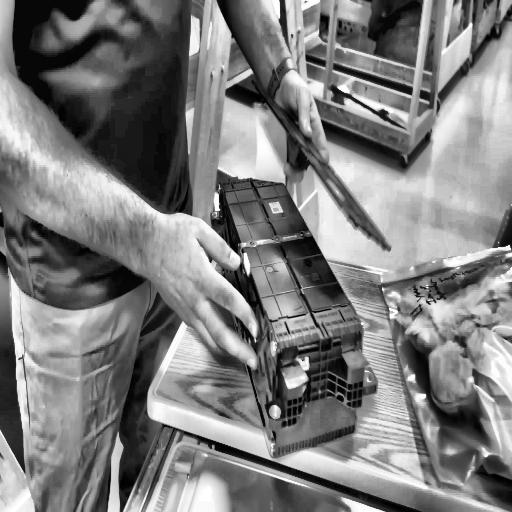battery_module: (219, 179, 364, 458)
